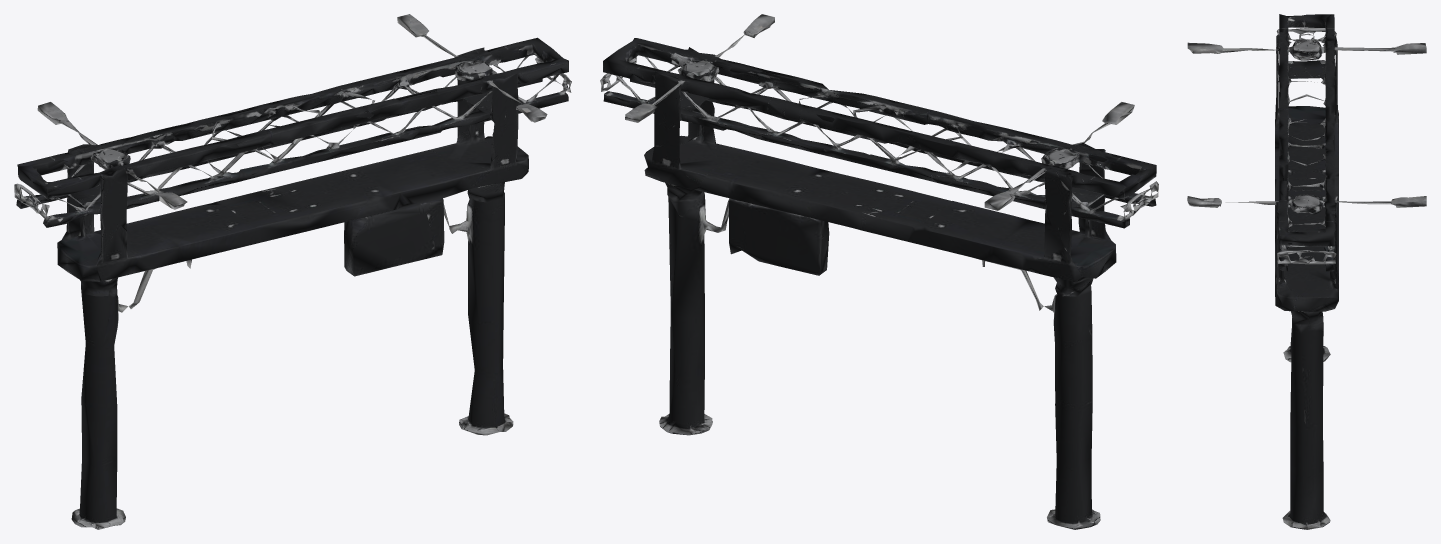
File: gantry_b.glb
The picture shows the model from 3 angles, left to right: view 1: azimuth 30°, elevation 25°; view 2: azimuth 150°, elevation 25°; view 3: azimuth 270°, elevation 25°; orthographic projection. The views are drawn at different scales.
Size of the model in its own units: 1.89 by 1.24 by 0.8533.
1 material, 1 textured.
